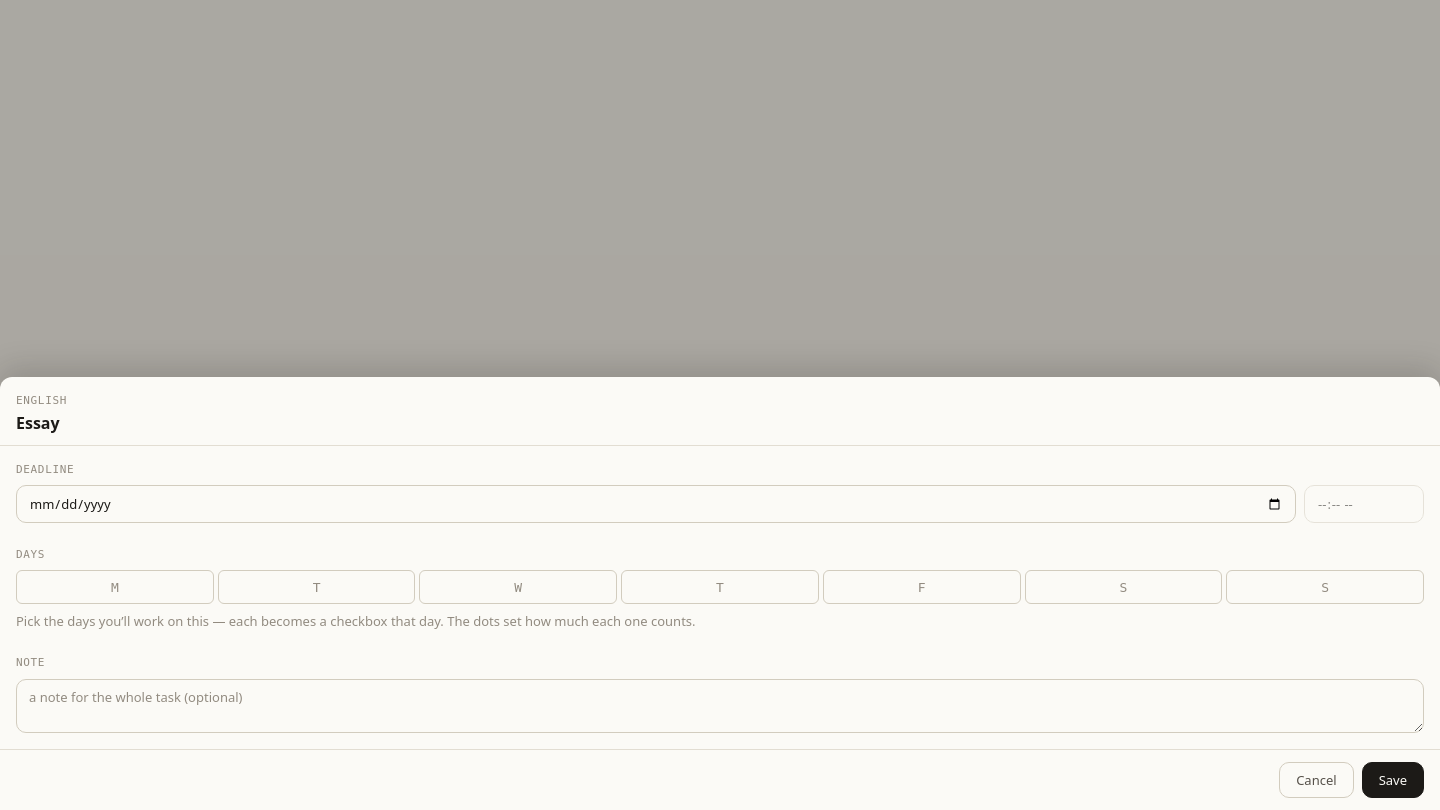
Test case: TaskEditor › offers a time only once there is a date to attach it to
Check: the time field is disabled, box [1304,485,1424,523]
In the date field labelled "Deadline": (656, 504) [16,485,1296,523], type "2026-08-01"
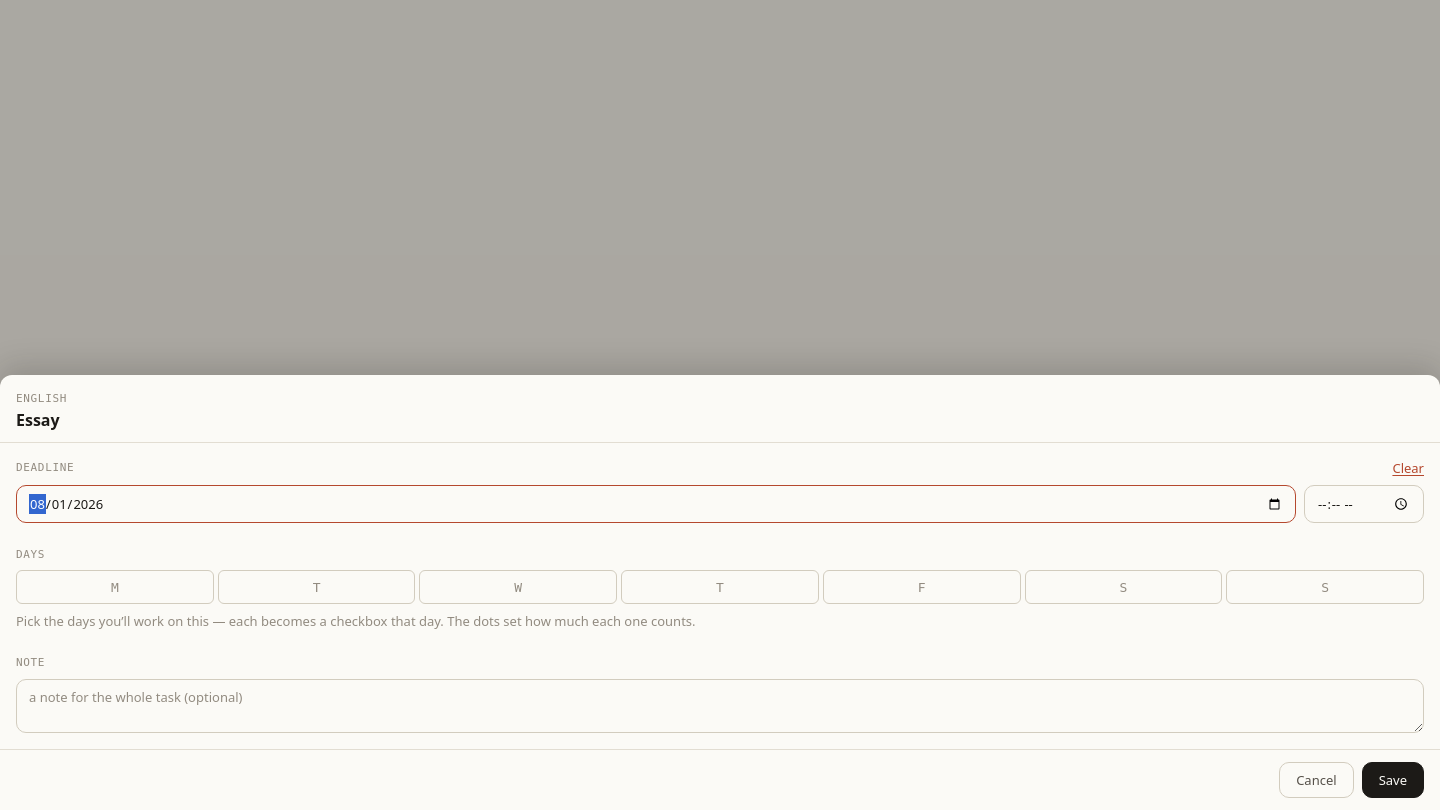
Check: the time field is enabled, box [1304,485,1424,523]
